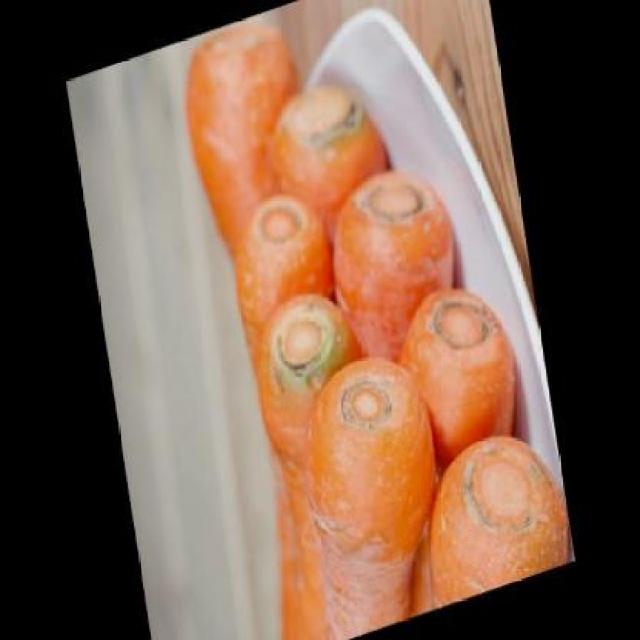carrot: (202, 173, 393, 639), (272, 336, 460, 638), (238, 277, 394, 638), (370, 410, 575, 622), (175, 5, 322, 269), (320, 148, 469, 372), (388, 266, 528, 488), (264, 64, 399, 270)
